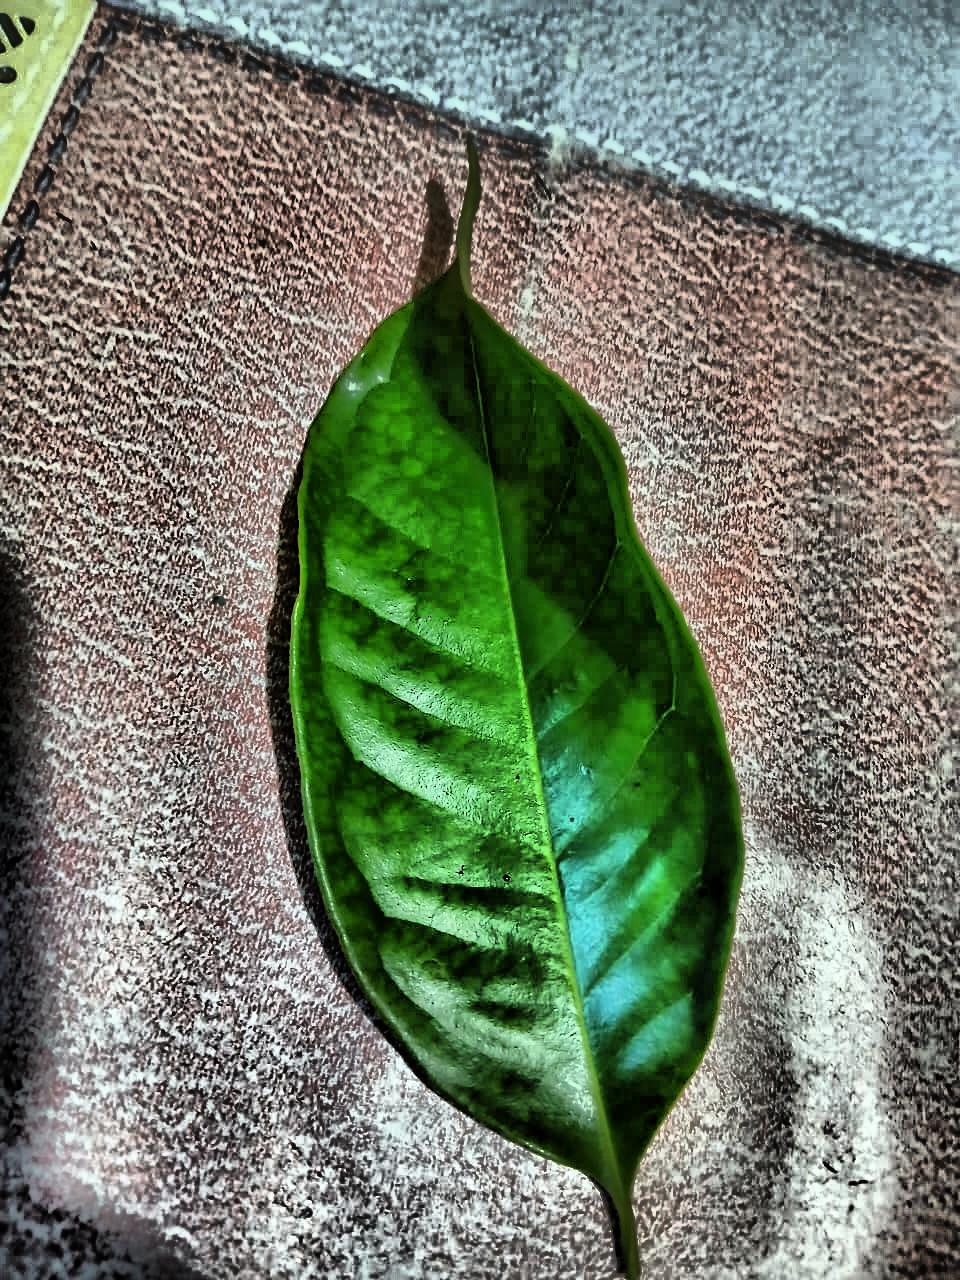daun salam: (289, 143, 741, 1279)
